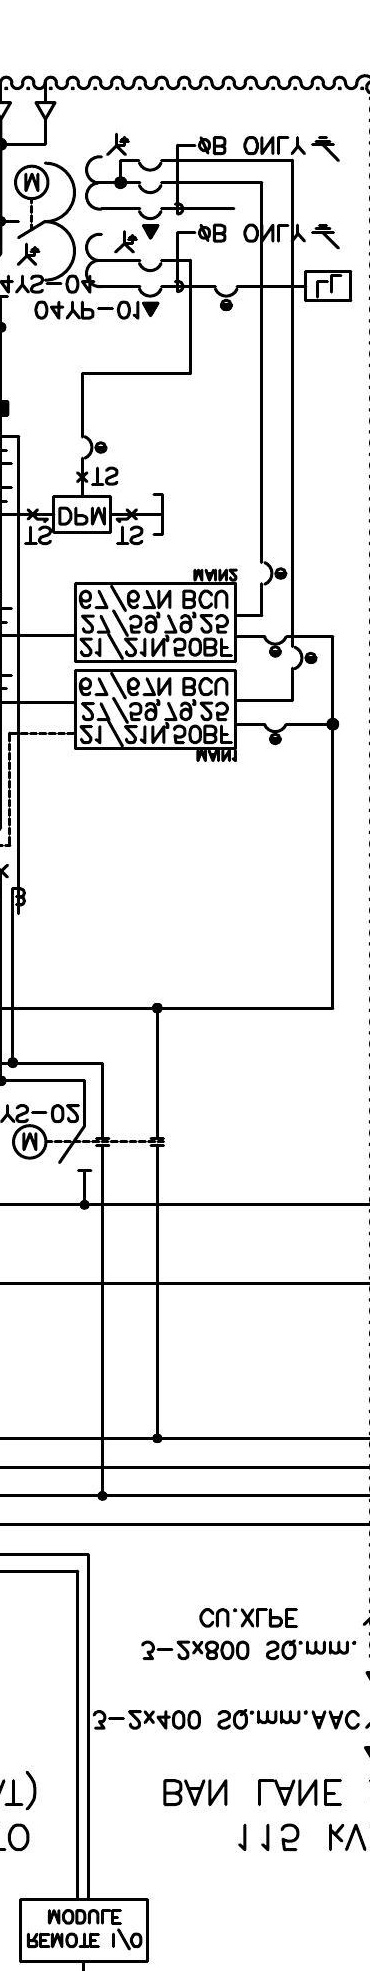115_1way_ds_w_motor: (11, 1123, 93, 1173), (13, 163, 50, 240)
115_vt_3p: (15, 132, 165, 318)
DPM: (52, 495, 112, 534)
LL: (303, 269, 354, 303)
remote_io_module: (18, 1897, 149, 1963)
